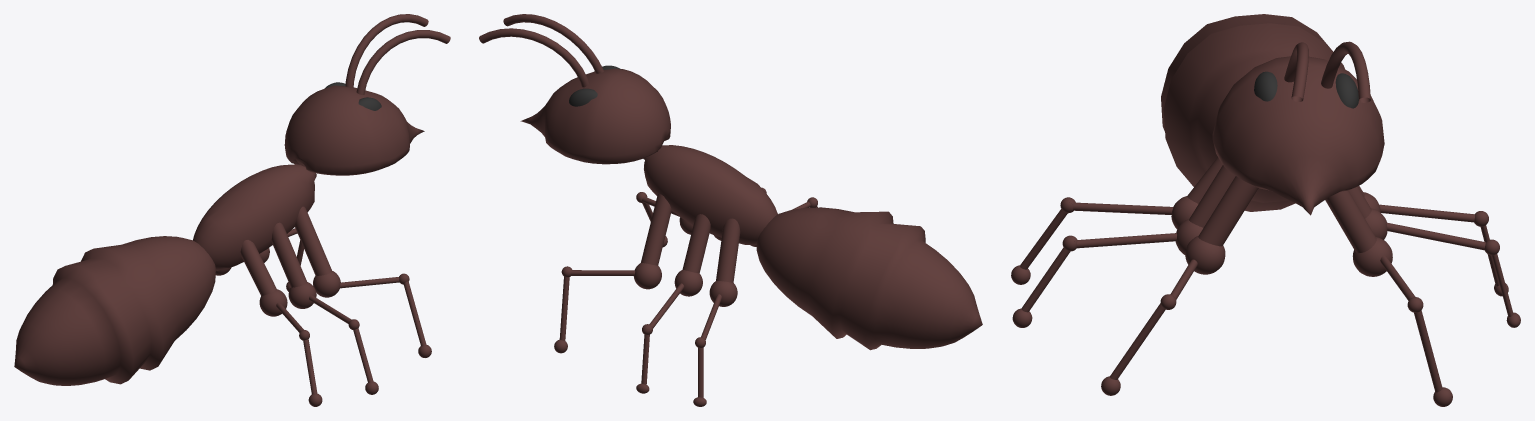
File: PKG-anttttt.fbx
3 views of the same model, side by side, from view 1: azimuth 30°, elevation 25°; view 2: azimuth 150°, elevation 25°; view 3: azimuth 270°, elevation 25° (orthographic). The views are drawn at different scales.
Parts seen in each view (by area): view 1: polySurface2; view 2: polySurface2; view 3: polySurface2.
Part boxes in pixels (x1,y1,x2,y2): polySurface2: (14, 14, 450, 406); polySurface2: (479, 14, 982, 406); polySurface2: (1011, 14, 1520, 406).
Bounding box in the file's own units: 9.02 × 5.31 × 6.08.
